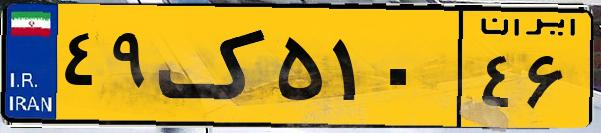0: (385, 28, 445, 110)
1: (330, 28, 385, 110)
4: (57, 26, 110, 100), (475, 38, 525, 113)
5: (270, 28, 330, 110)
6: (525, 38, 570, 115)
9: (110, 28, 158, 98)
ک: (158, 12, 270, 120)
